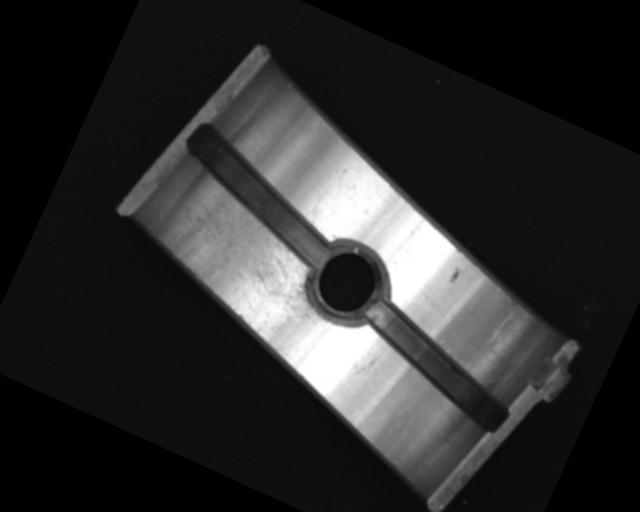bruise: (446, 266, 463, 287)
gap: (163, 119, 355, 269), (343, 297, 528, 437)
hole: (293, 227, 403, 339)
nick: (482, 301, 518, 352), (352, 337, 390, 385)
scratch: (139, 175, 361, 375)
